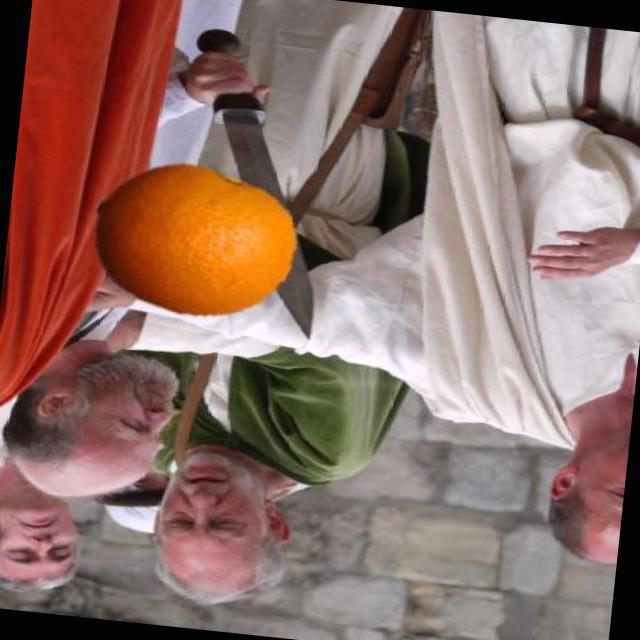Orange: (83, 153, 303, 329)
